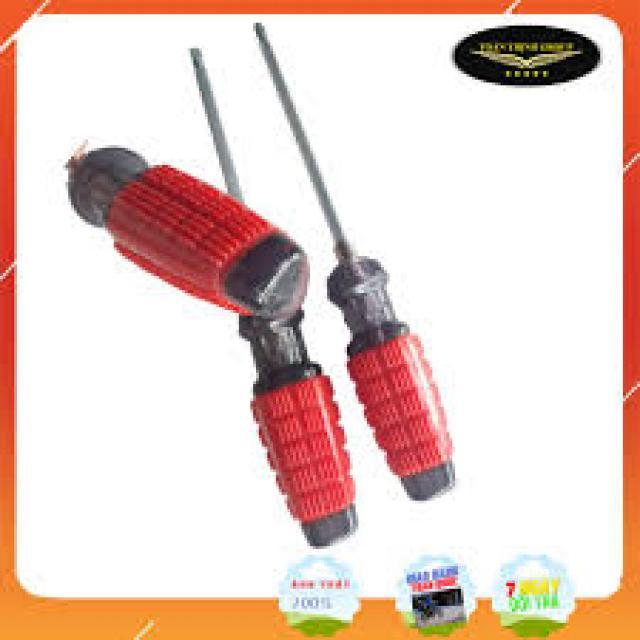screwdriver: (248, 14, 460, 507), (182, 37, 361, 552)
